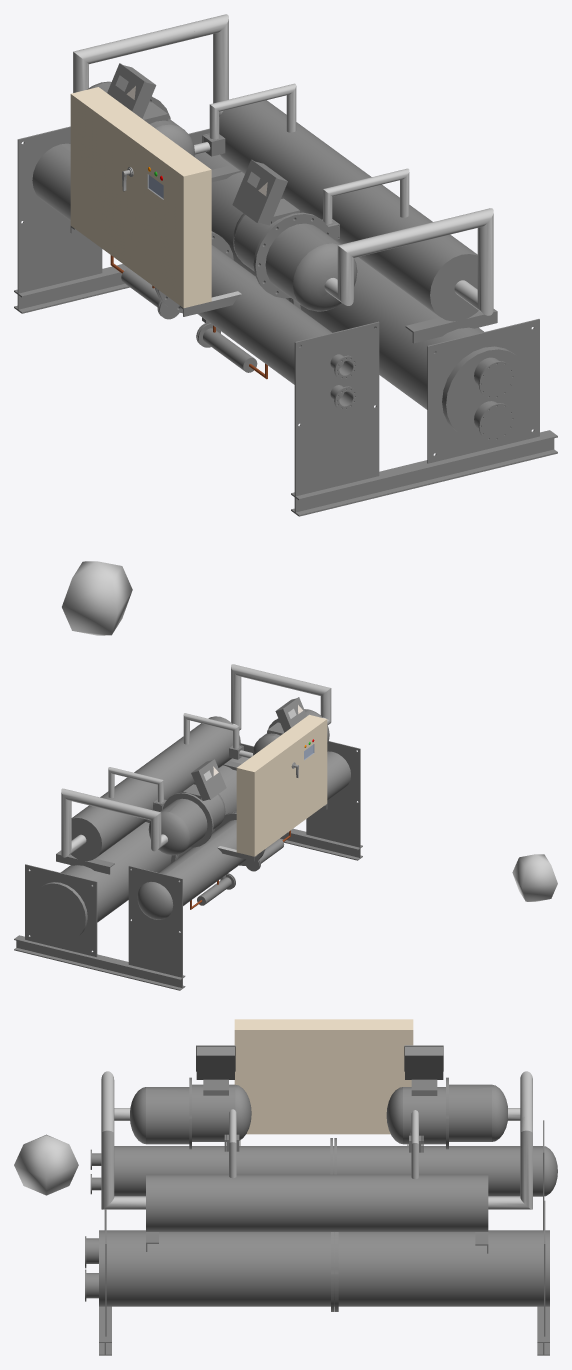
File: Chiller.gltf
The picture shows the model from 3 angles, top to bottom: view 1: azimuth 30°, elevation 25°; view 2: azimuth 150°, elevation 25°; view 3: azimuth 270°, elevation 25°; orthographic projection. The views are drawn at different scales.
Visible parts, largest first — view 1: root; view 2: root; view 3: root.
Boxes of the visible parts, <box> form: root: <box>14,14,557,635</box>; root: <box>14,664,557,990</box>; root: <box>14,1019,557,1355</box>.
Bounding box in the file's own units: 3.78 × 2.2 × 4.26.
